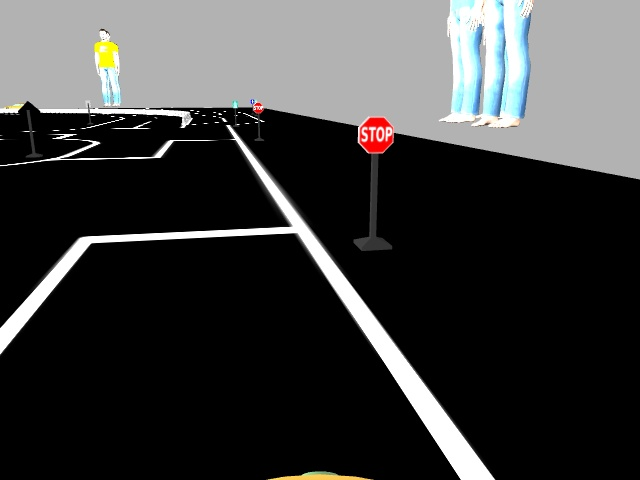Stop: (358, 116, 395, 153), (253, 102, 263, 112)
